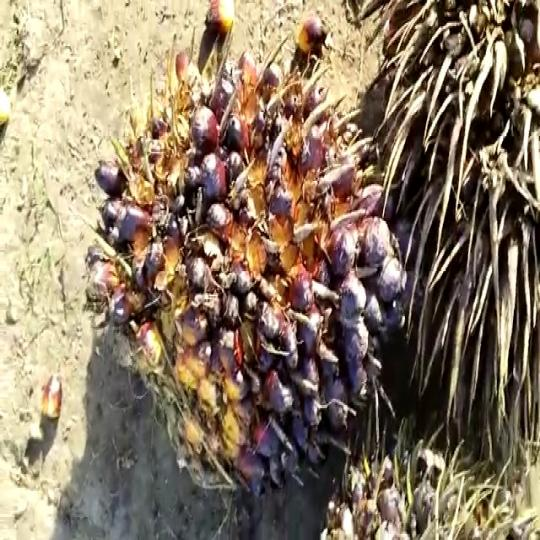masak: (93, 26, 397, 518)
